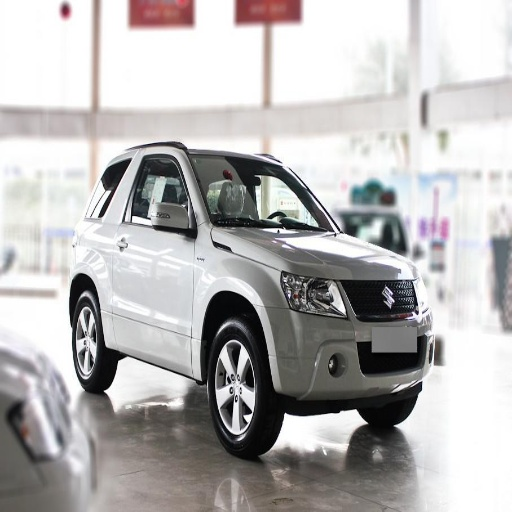front_bumper: (263, 279, 436, 400), (32, 455, 89, 508)
front_right_door: (119, 150, 198, 367)
front_right_light: (281, 271, 347, 316)
